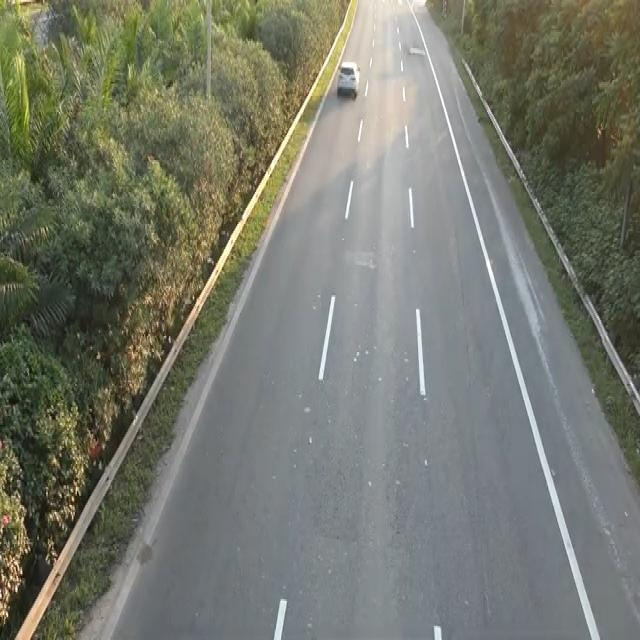car: (335, 59, 361, 100)
